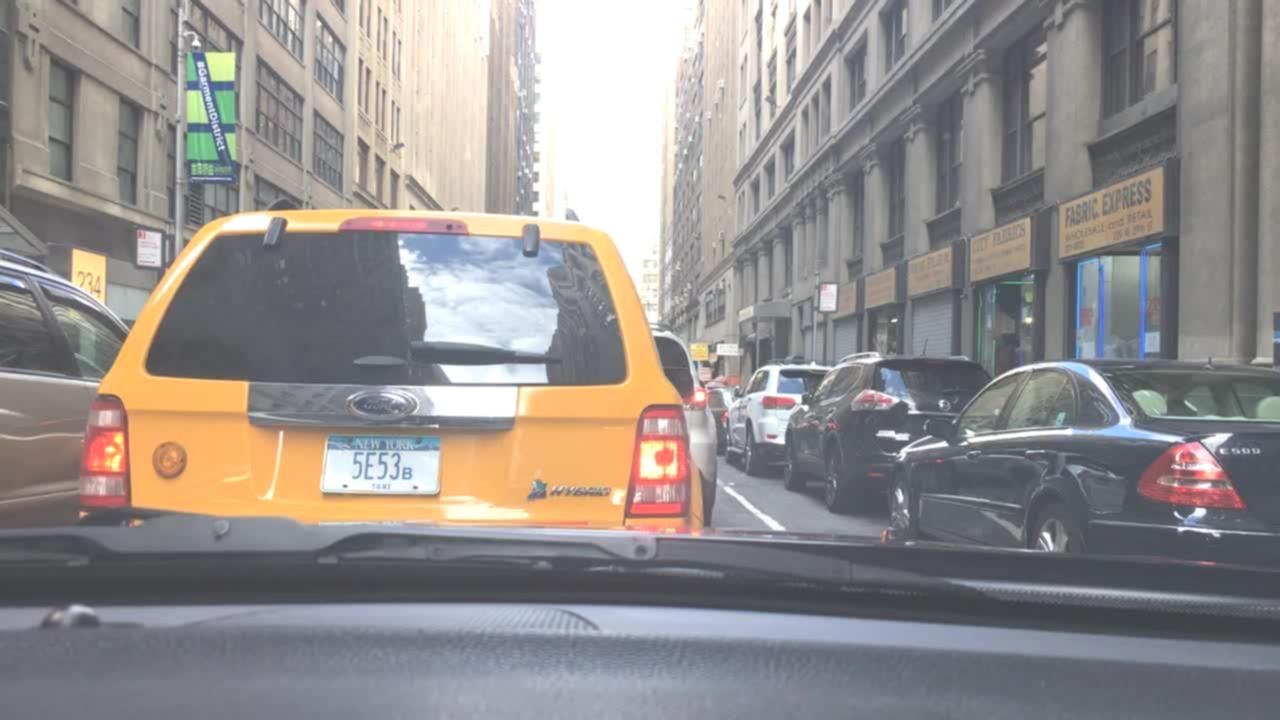Nissan: (937, 398, 955, 412)
ford: (348, 391, 416, 418)
